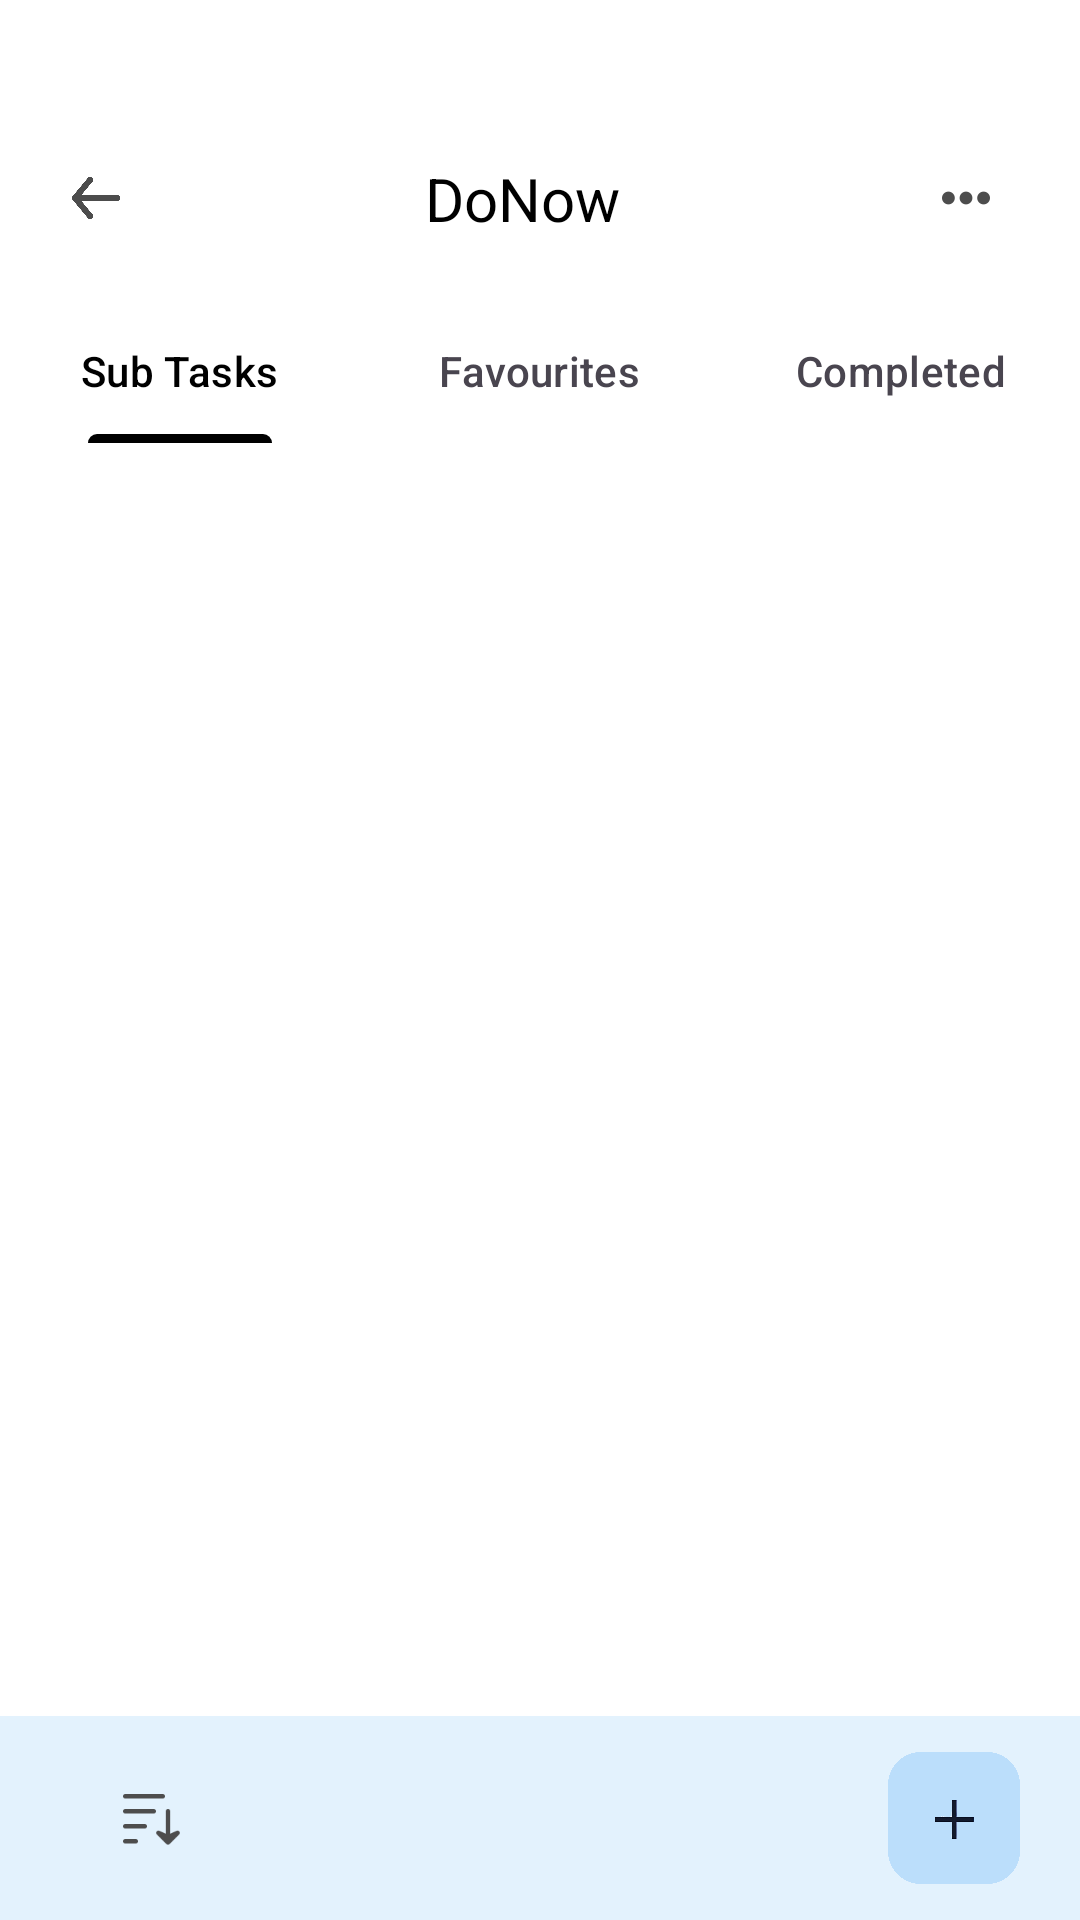

Named icons in this screenshot (1080x1920) and their centers, point (x, y):
add: point (954, 1818)
back: point (96, 198)
options: point (966, 198)
Sort: point (151, 1819)
